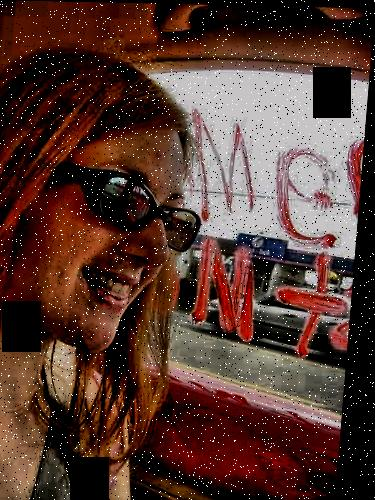seatbelt: (23, 358, 109, 499)
